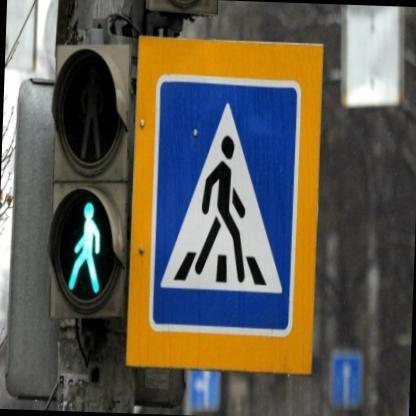obstructed_road_sign: (188, 370, 222, 411)
road_sign: (126, 38, 324, 373), (330, 354, 362, 407)
traffic light: (47, 47, 132, 319)
